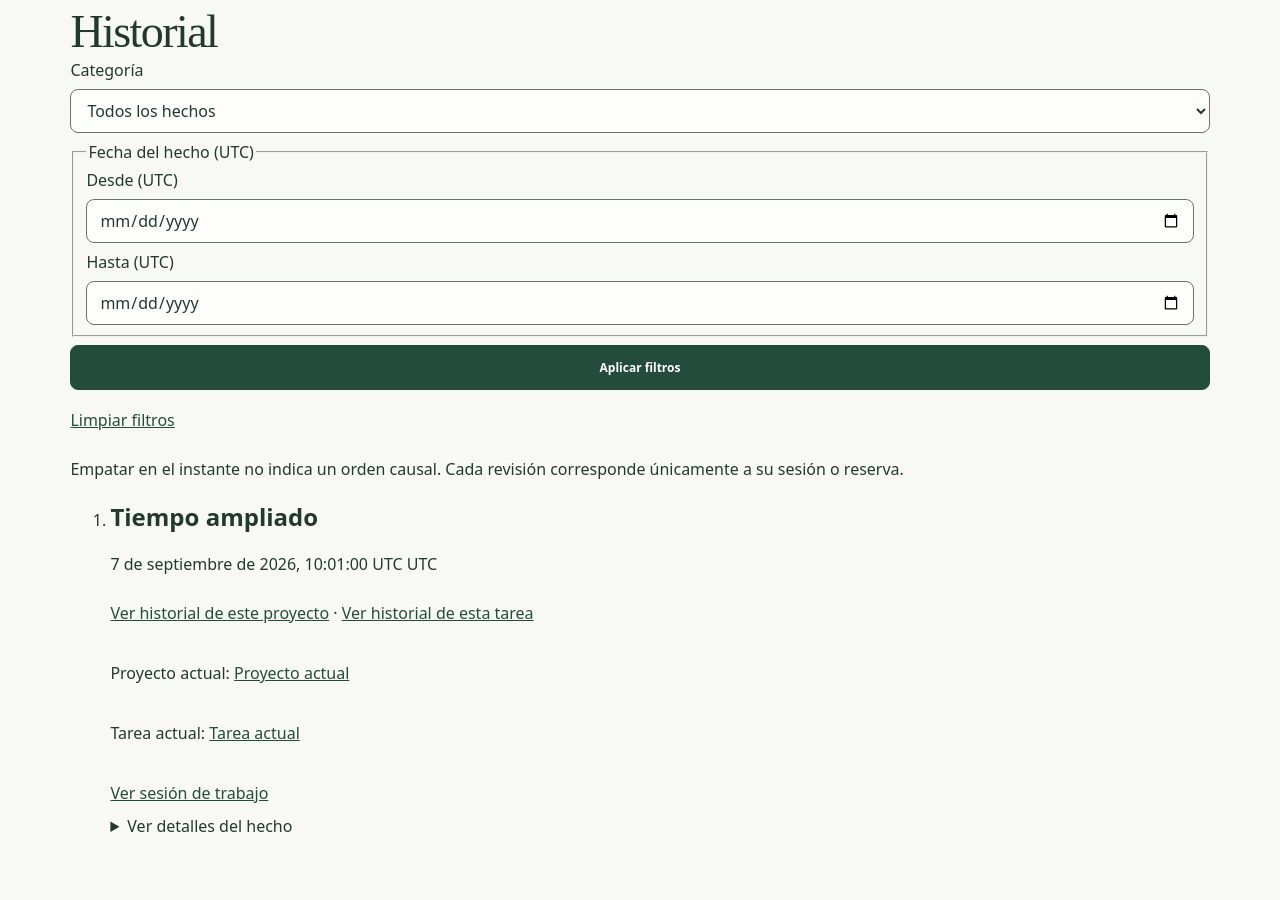
Test: @s33 shows extension ends and local revision without claiming extra worked time
The image size is (1280, 900).
(page scrolled)
Expected: the heading "Tiempo ampliado" is shown, [110,500,318,533]
Click the heading "Ver detalles del hecho": (210,826) [127,815,292,837]
(page scrolled)
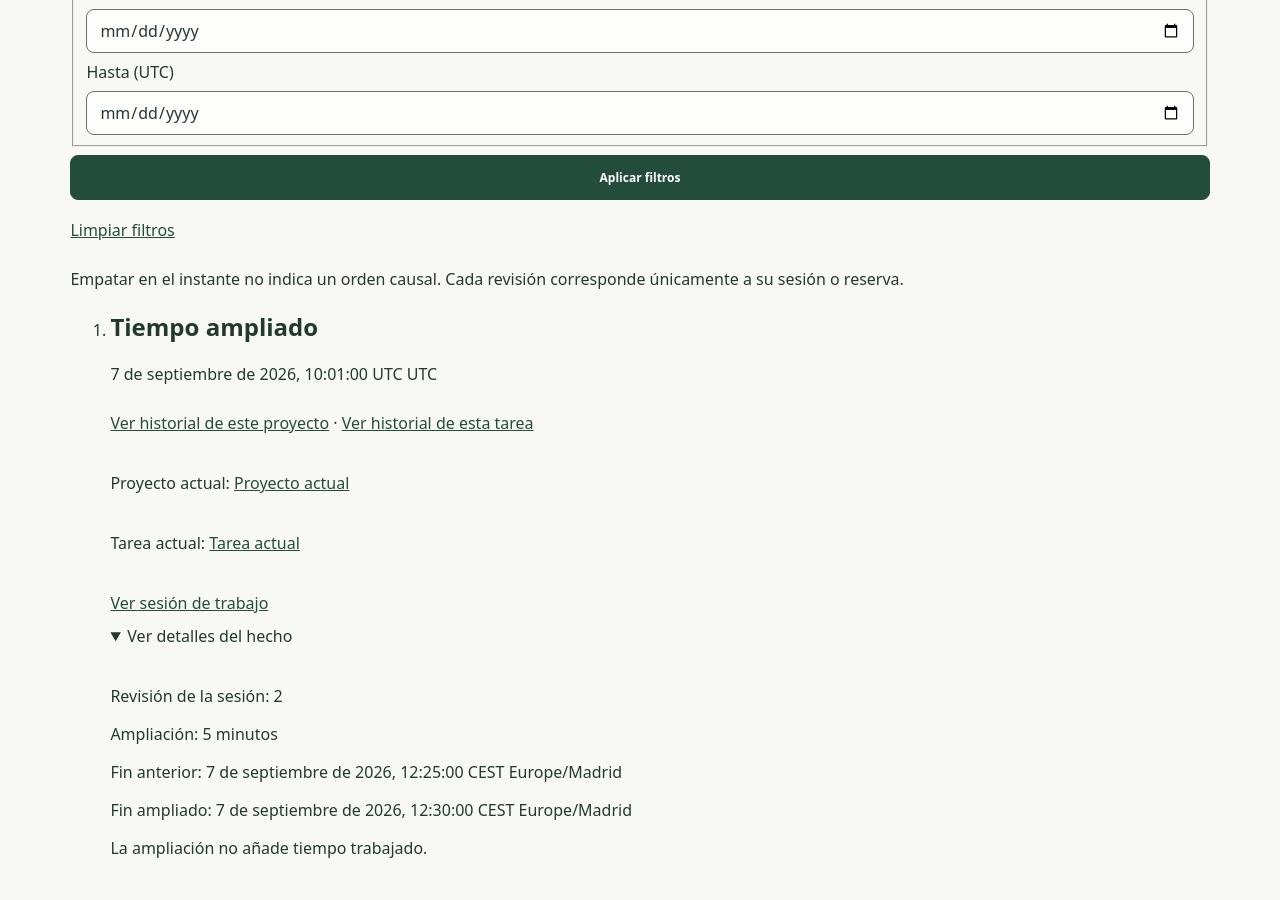
Now the text "Ampliación: 5 minutos" is shown, box [110,723,278,745]
Now the text "Revisión de la sesión: 2" is shown, box [110,685,283,707]
Now the text "La ampliación no añade tiempo trabajado." is shown, box [110,837,427,859]
